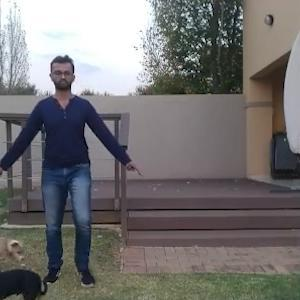land: (12, 69, 129, 271)
